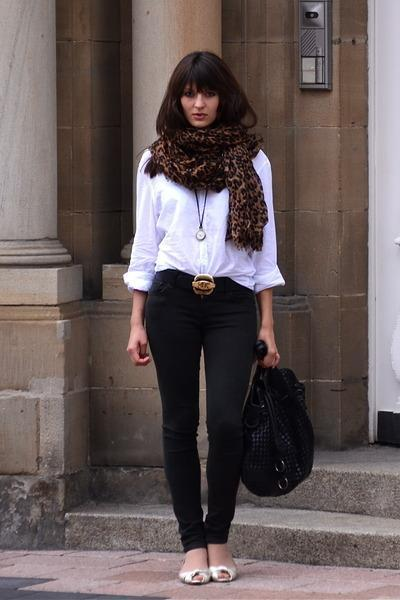bag: (252, 365, 316, 496)
pants: (135, 286, 267, 555)
shirt: (123, 156, 284, 291)
shoe: (195, 549, 230, 579)
